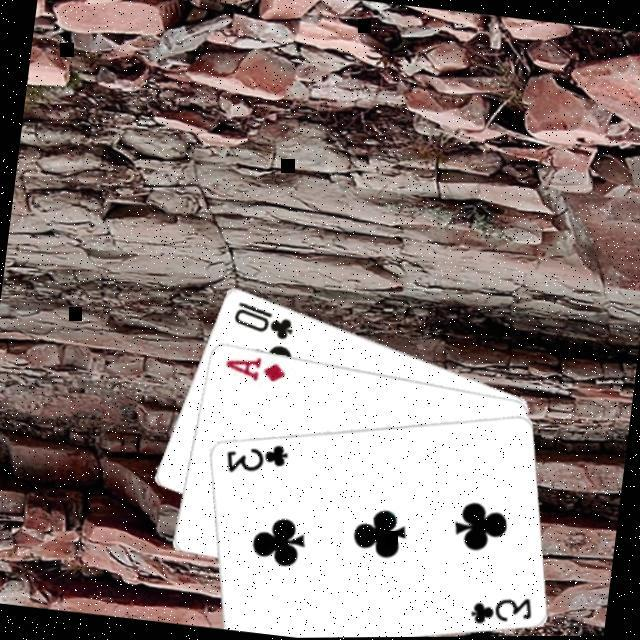10C: (227, 298, 297, 345)
3C: (220, 436, 291, 483), (464, 589, 535, 635)
AD: (220, 351, 289, 388)
